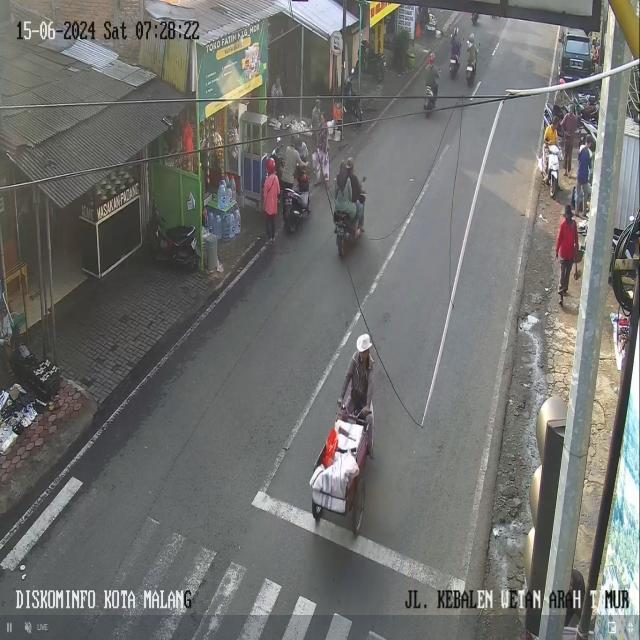Helmet: (266, 157, 275, 173), (292, 133, 301, 146), (345, 157, 353, 169), (427, 52, 435, 64), (588, 95, 595, 104), (452, 27, 458, 37), (468, 33, 474, 43)
